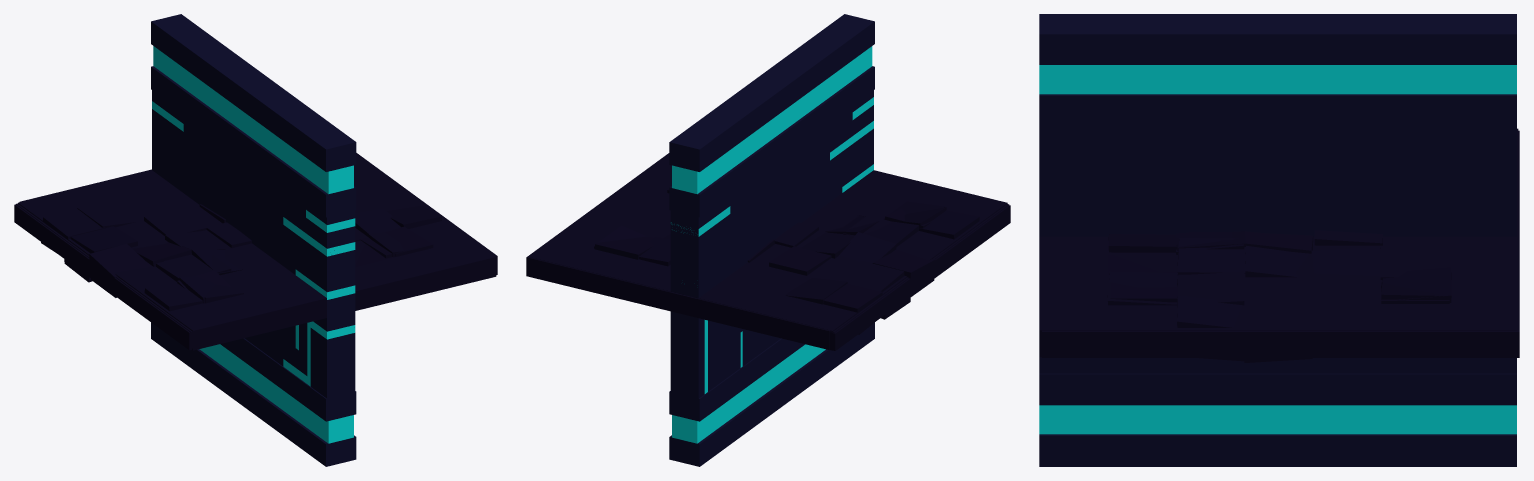
The model's file is ParedesySuelo.fbx.
The picture shows the model from 3 angles, left to right: view 1: azimuth 30°, elevation 25°; view 2: azimuth 150°, elevation 25°; view 3: azimuth 270°, elevation 25°; orthographic projection. The views are drawn at different scales.
Parts seen in each view (by area): view 1: Pared_1, Suelo_1, Muro_1, Suelo_3, Suelo_4, Suelo_2, Pared_3; view 2: Suelo_1, Pared_1, Muro_1, Pared_3, Suelo_4, Suelo_3, Suelo_2; view 3: Pared_3, Suelo_1, Suelo_4, Pared_1, Muro_1, Suelo_3, Suelo_2.
Part boxes in pixels (left/top/right/bottom): Pared_1: left=151, top=14, right=356, bottom=466; Suelo_1: left=18, top=155, right=496, bottom=350; Muro_1: left=194, top=46, right=312, bottom=434; Suelo_3: left=14, top=203, right=441, bottom=350; Suelo_4: left=20, top=153, right=497, bottom=311; Suelo_2: left=16, top=203, right=429, bottom=348; Pared_3: left=152, top=15, right=355, bottom=443; Suelo_1: left=529, top=155, right=1007, bottom=350; Pared_1: left=669, top=14, right=874, bottom=466; Muro_1: left=713, top=47, right=830, bottom=434; Pared_3: left=669, top=14, right=874, bottom=466; Suelo_4: left=526, top=153, right=979, bottom=349; Suelo_3: left=598, top=162, right=1010, bottom=350; Suelo_2: left=594, top=204, right=1009, bottom=334; Pared_3: left=1039, top=14, right=1516, bottom=466; Suelo_1: left=1039, top=129, right=1517, bottom=362; Suelo_4: left=1042, top=130, right=1519, bottom=357; Pared_1: left=1039, top=14, right=1516, bottom=435; Muro_1: left=1159, top=14, right=1397, bottom=435; Suelo_3: left=1108, top=129, right=1518, bottom=361; Suelo_2: left=1107, top=128, right=1517, bottom=303.
Size of the model in its own units: 2037 by 2000 by 2010.
